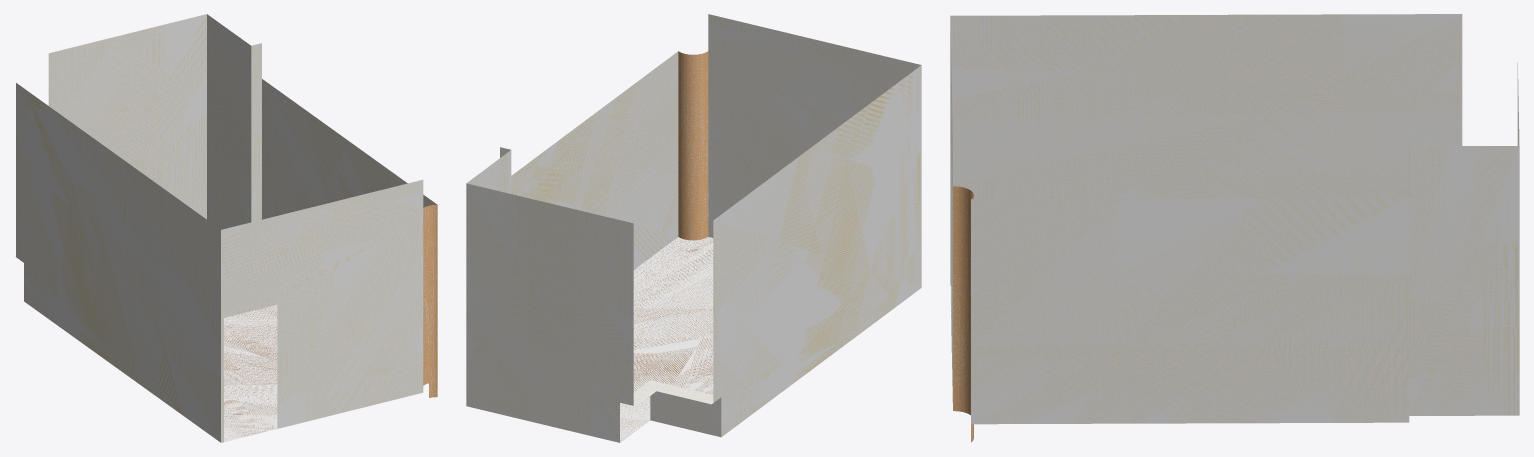
File: DES018.obj
3 views of the same model, side by side, from view 1: azimuth 30°, elevation 25°; view 2: azimuth 150°, elevation 25°; view 3: azimuth 270°, elevation 25° (orthographic). The views are drawn at different scales.
Parts seen in each view (by area): view 1: Mesh1 DES018 Model; view 2: Mesh1 DES018 Model; view 3: Mesh1 DES018 Model.
Boxes of the visible parts, left/top/right/bottom form: Mesh1 DES018 Model: left=15, top=14, right=437, bottom=442; Mesh1 DES018 Model: left=466, top=14, right=921, bottom=442; Mesh1 DES018 Model: left=950, top=14, right=1519, bottom=442.
Bounding box in the file's own units: 4.02 × 3.85 × 6.88.
4 materials, 1 textured.
